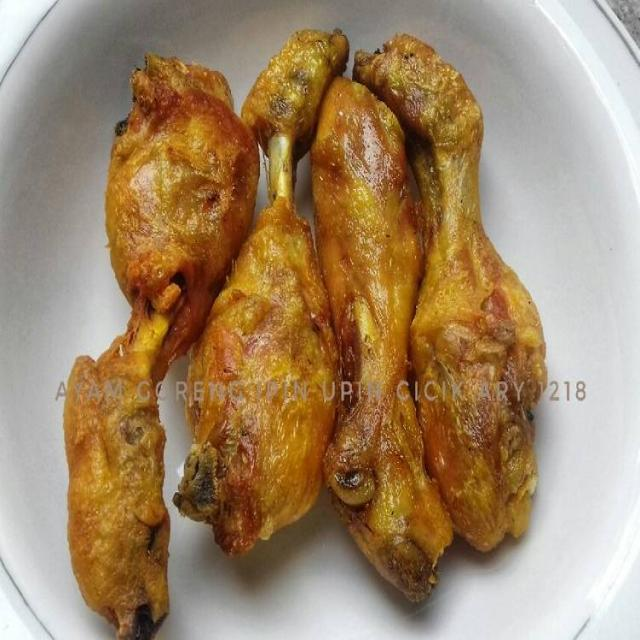Frango: (65, 61, 260, 636), (356, 27, 544, 558), (178, 23, 348, 554), (308, 81, 453, 608)
